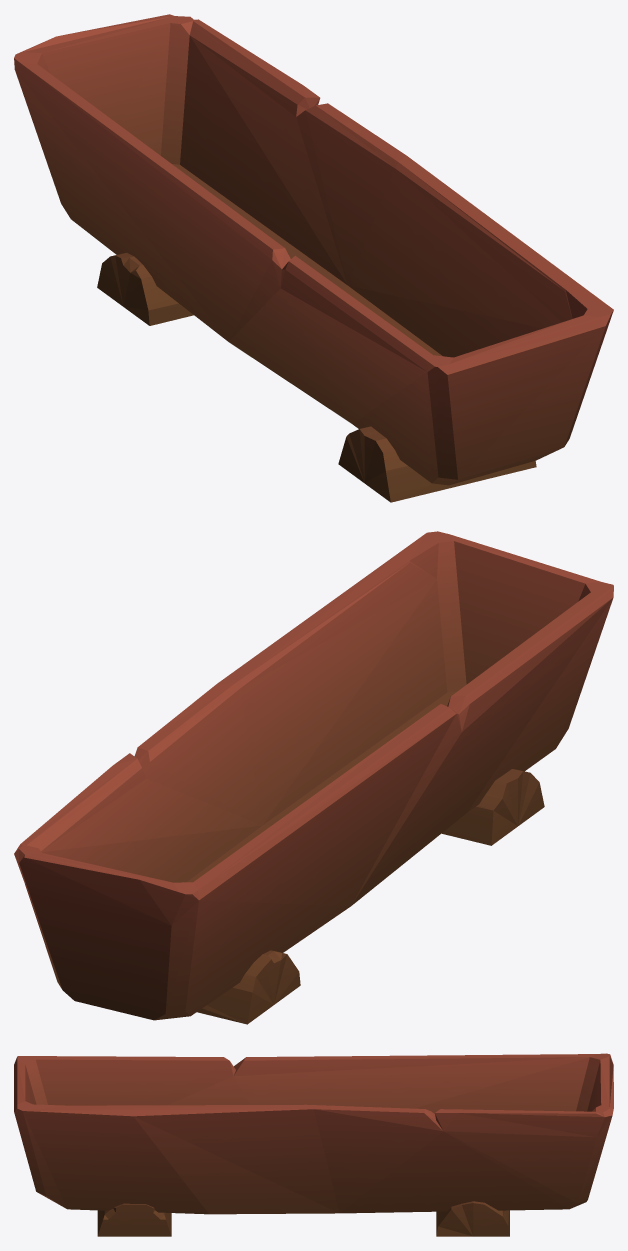
File: feedingtrough.glb
The picture shows the model from 3 angles, top to bottom: view 1: azimuth 30°, elevation 25°; view 2: azimuth 150°, elevation 25°; view 3: azimuth 270°, elevation 25°; orthographic projection. The views are drawn at different scales.
Visible parts, largest first — view 1: FeedingTrough_mesh1; view 2: FeedingTrough_mesh1; view 3: FeedingTrough_mesh1.
Boxes of the visible parts, x1,y1,x2,y2 form: FeedingTrough_mesh1: (14, 14, 613, 502); FeedingTrough_mesh1: (14, 531, 613, 1024); FeedingTrough_mesh1: (14, 1053, 613, 1236).
Size of the model in its own units: 0.7412 by 0.7135 by 2.86.
1 material, 1 textured.
